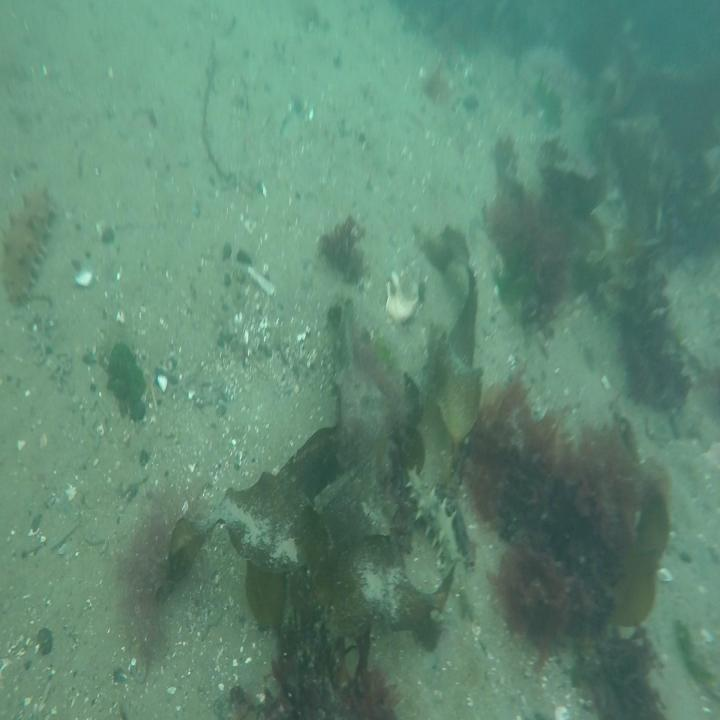holothurian: (404, 464, 463, 570)
